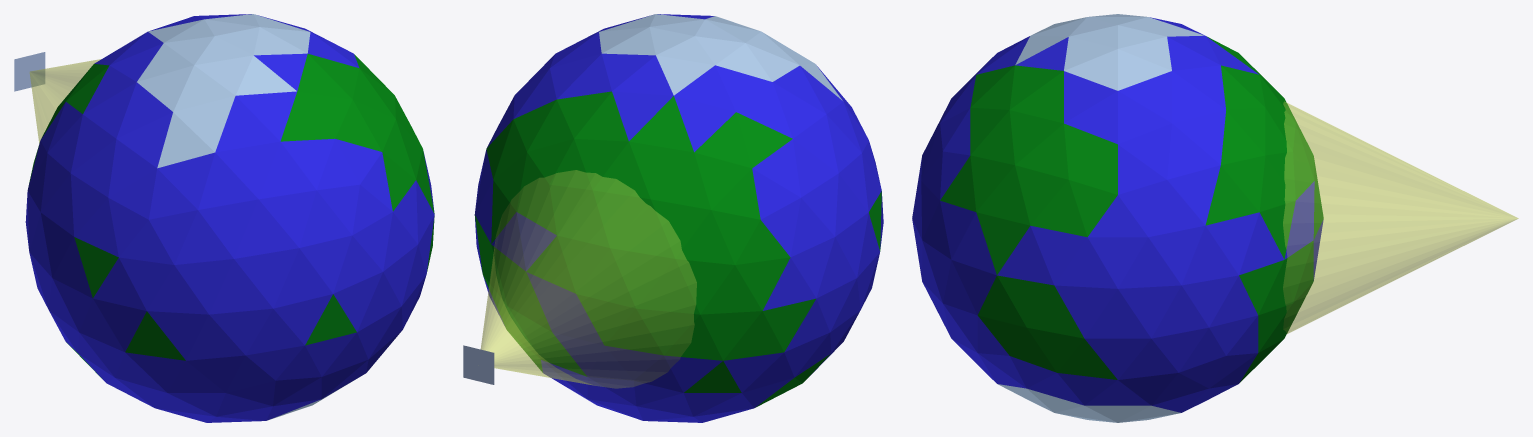
File: earth.glb
The picture shows the model from 3 angles, left to right: view 1: azimuth 30°, elevation 25°; view 2: azimuth 150°, elevation 25°; view 3: azimuth 270°, elevation 25°; orthographic projection.
Parts seen in each view (by area): view 1: earth, Cone, Plane; view 2: earth, Cone, Plane; view 3: earth, Cone.
Boxes of the visible parts, left/top/right/bottom form: earth: left=25, top=14, right=434, bottom=422; Cone: left=29, top=59, right=101, bottom=142; Plane: left=14, top=52, right=45, bottom=91; earth: left=474, top=14, right=883, bottom=422; Cone: left=480, top=170, right=696, bottom=388; Plane: left=463, top=345, right=494, bottom=384; earth: left=912, top=14, right=1323, bottom=422; Cone: left=1283, top=101, right=1518, bottom=333.
Bounding box in the file's own units: 1.99 × 1.99 × 2.95.
